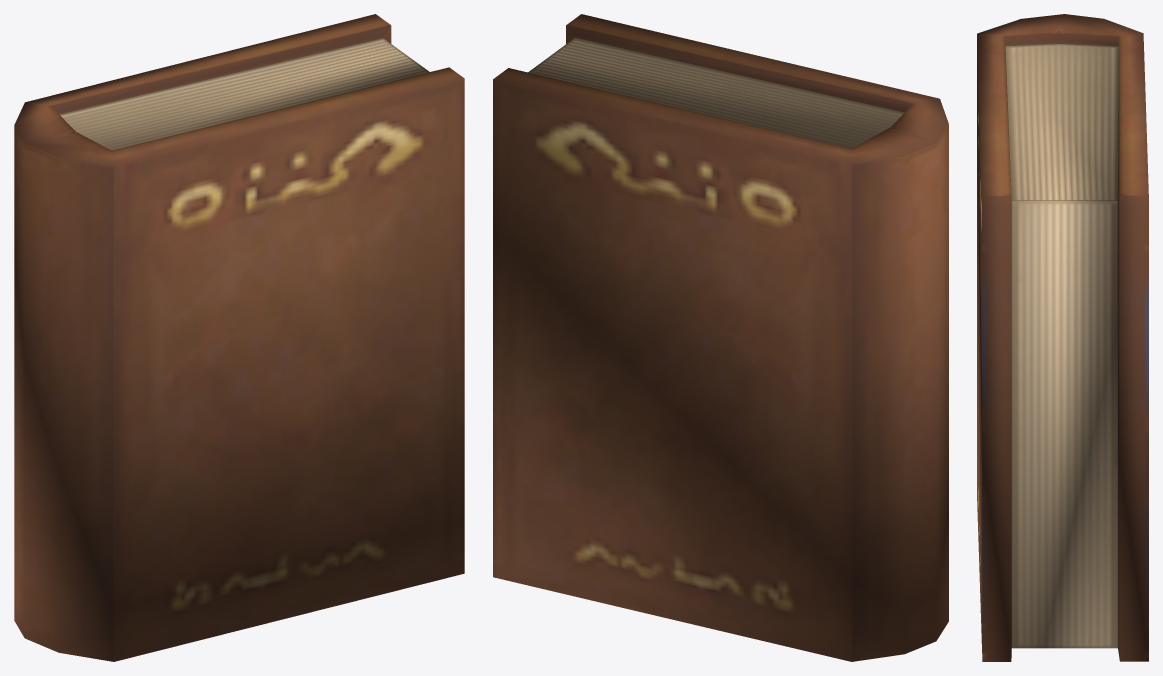
Rendered from wz_shuben8.FBX.
3 renders of one model, left to right at view 1: azimuth 30°, elevation 25°; view 2: azimuth 150°, elevation 25°; view 3: azimuth 270°, elevation 25°, orthographic. The views are drawn at different scales.
Visible parts, largest first — view 1: wz_shu_06; view 2: wz_shu_06; view 3: wz_shu_06.
Boxes of the visible parts, box(x1,y1,x2,y2) form: wz_shu_06: box(14, 14, 464, 661); wz_shu_06: box(493, 14, 948, 661); wz_shu_06: box(977, 14, 1148, 661).
Bounding box in the file's own units: 1.25 × 1.5 × 0.4967.
